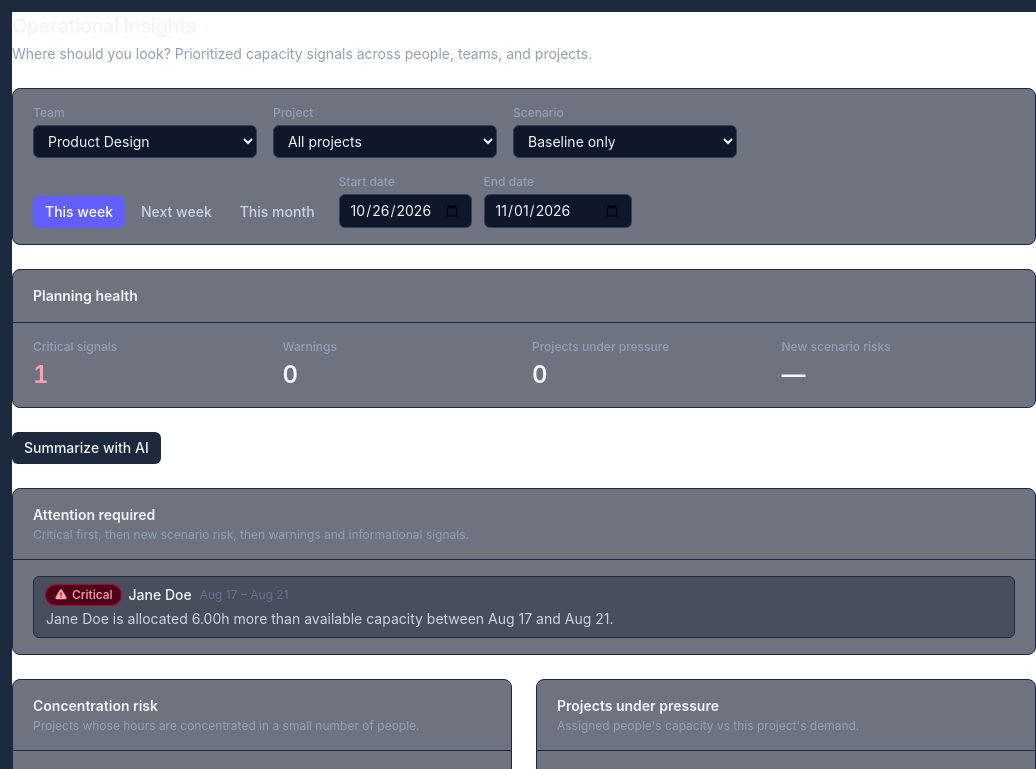
Test: InsightsOverviewPage › shows the signal detail panel when a row is selected
This screenshot has width=1036, height=769.
What coordinates should you click on to do the following:
click the button "Jane Doe"
I would click on:
 (524, 607)
Its box is [33,576,1015,638].
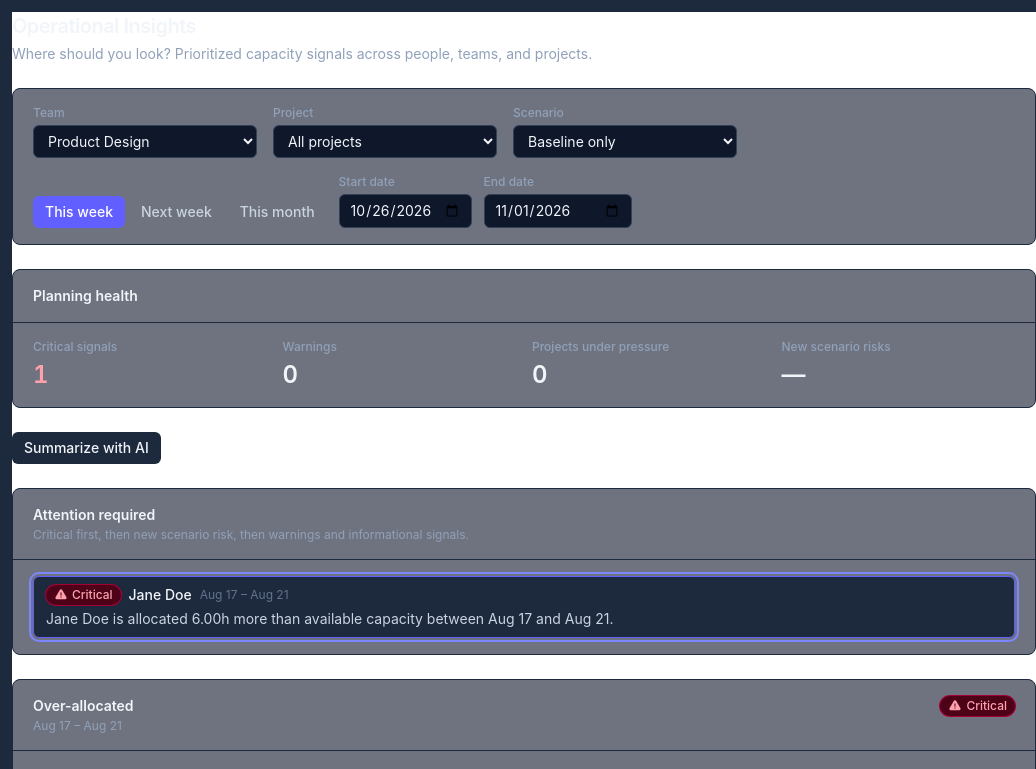
Now the heading "Over-allocated" is shown, box [33,696,134,716]
